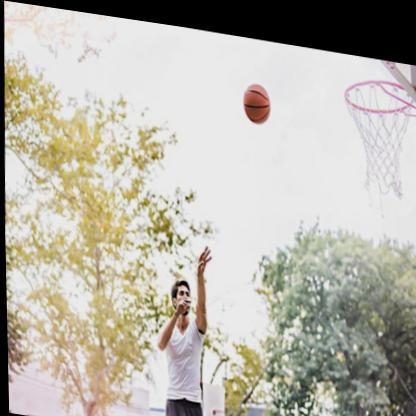basketball: (242, 73, 270, 117)
rim: (342, 62, 414, 185)
